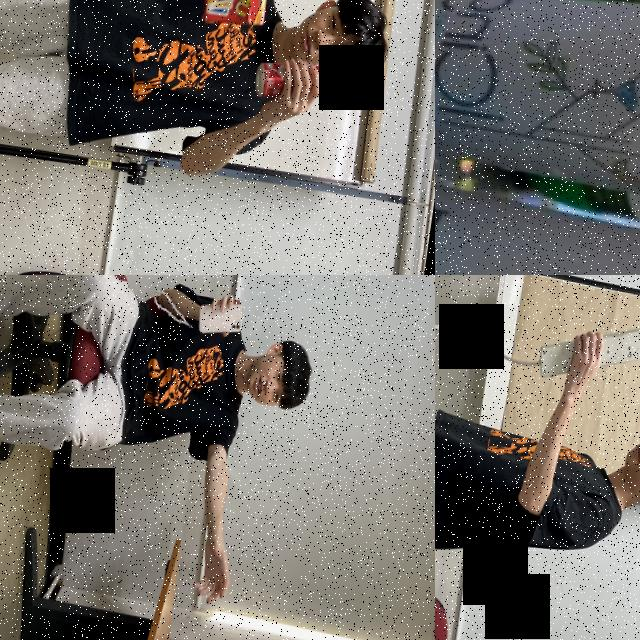can: (435, 0, 640, 235), (435, 158, 640, 275), (252, 54, 332, 110)
